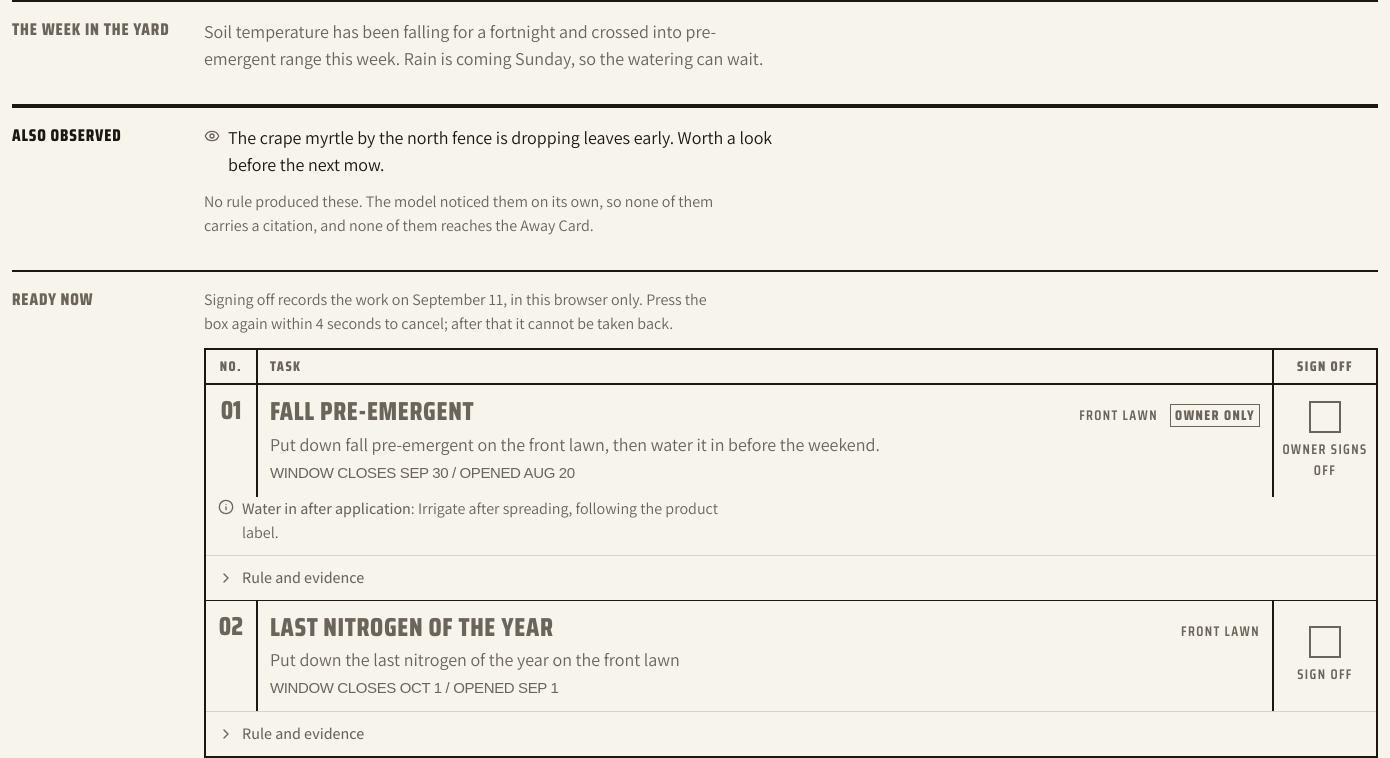
Test case: thisWeek › says the sign-off was not saved when the write fails
Click the 1st checkbox at (1325, 441), box [1274,385,1376,496]
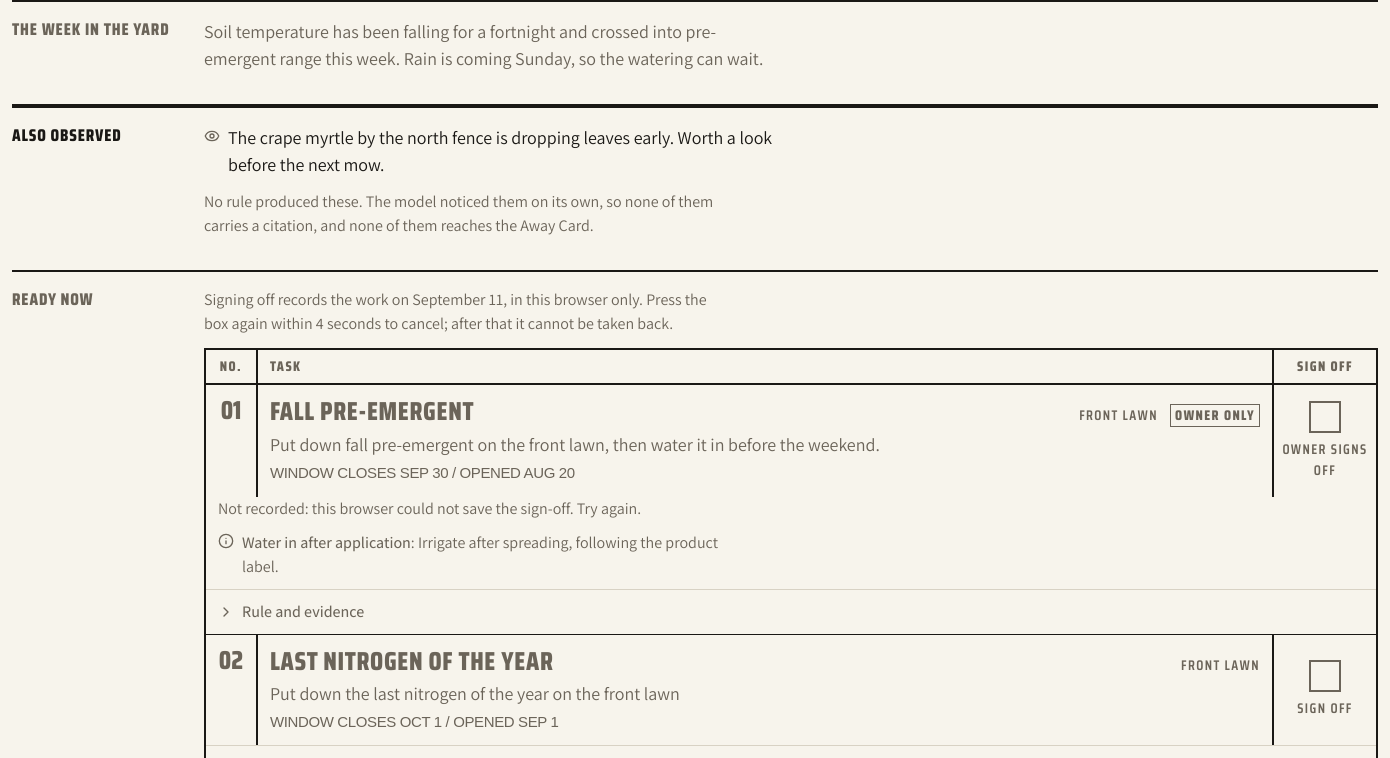
Result: the text "Not recorded: this browser could not save the sign-off. Try again." is shown at [218,496,641,520]
